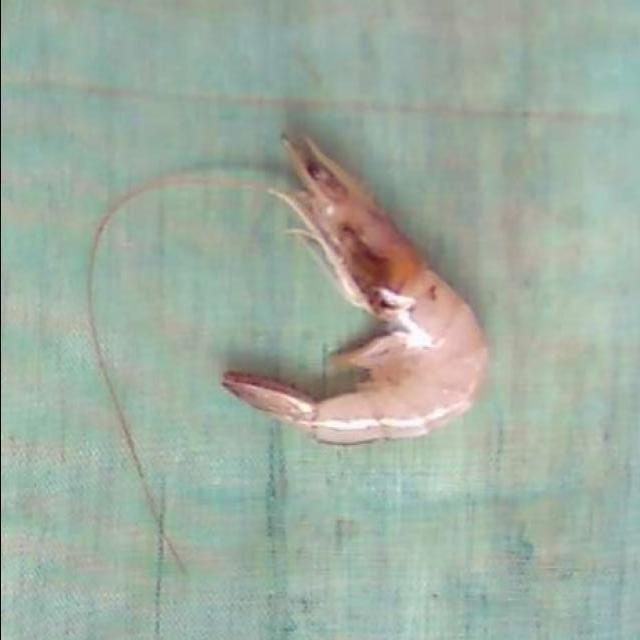shrimp: (221, 137, 488, 444)
